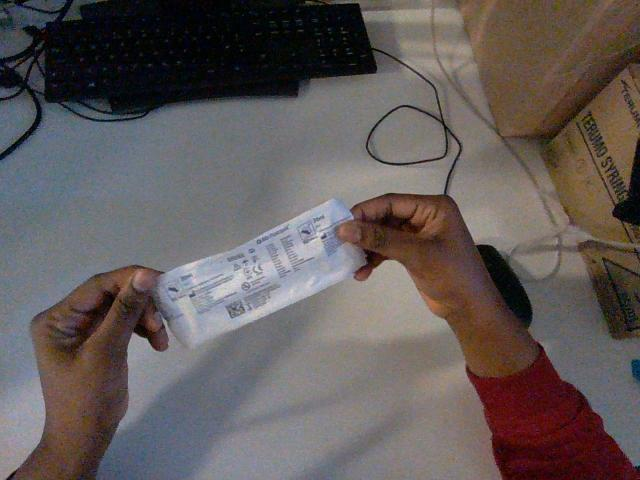syringe: (153, 199, 365, 347)
